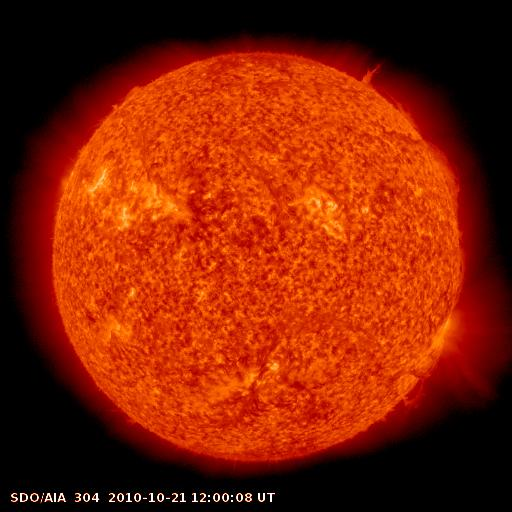prominence: (428, 137, 469, 221), (389, 354, 435, 415), (442, 239, 475, 316), (344, 48, 392, 94), (108, 75, 154, 110), (390, 96, 424, 140)
